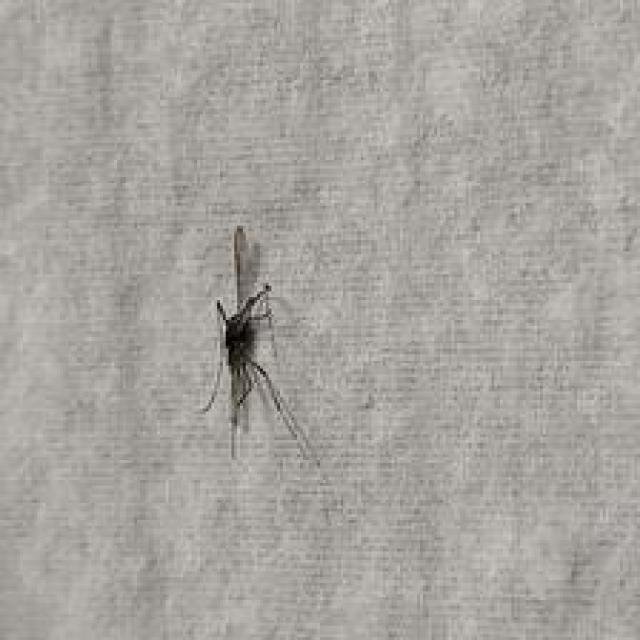Aedes albopictus: (197, 223, 323, 468)
